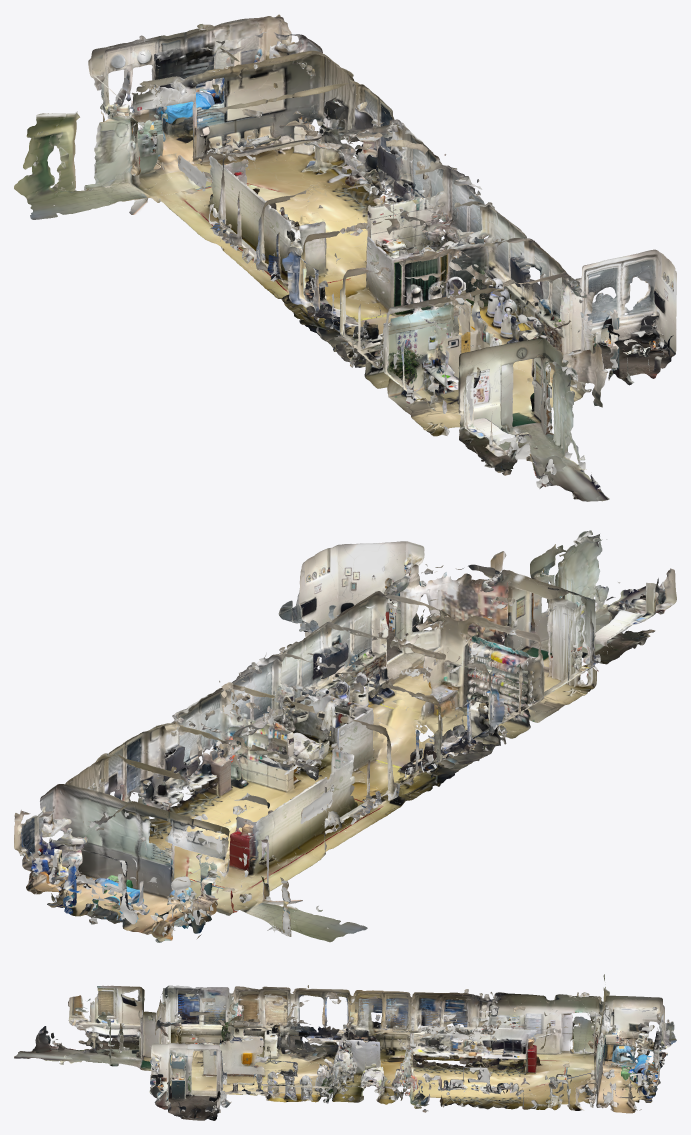
File: MAP_5LCPVQZ0MR4D.glb
3 renders of one model, top to bottom at view 1: azimuth 30°, elevation 25°; view 2: azimuth 150°, elevation 25°; view 3: azimuth 270°, elevation 25°, orthographic. The views are drawn at different scales.
Parts seen in each view (by area): view 1: material_0, material_1; view 2: material_0, material_1; view 3: material_0, material_1.
Boxes of the visible parts, box(x1,y1,x2,y2) form: material_0: box(14, 14, 676, 501); material_1: box(72, 28, 676, 484); material_0: box(14, 530, 676, 942); material_1: box(24, 541, 655, 930); material_0: box(14, 974, 676, 1120); material_1: box(51, 986, 664, 1120).
Bounding box in the file's own units: 12.44 × 3.66 × 30.54.
Materials: 2 (2 with a texture image).
